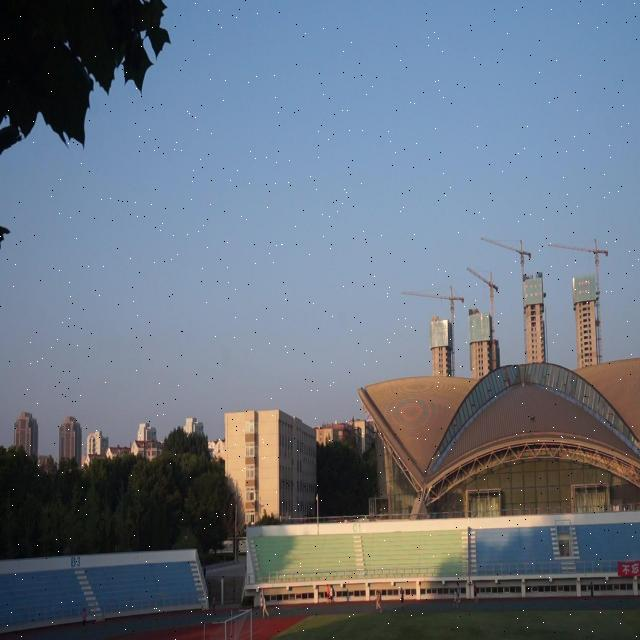UAV: (530, 416, 536, 422)
